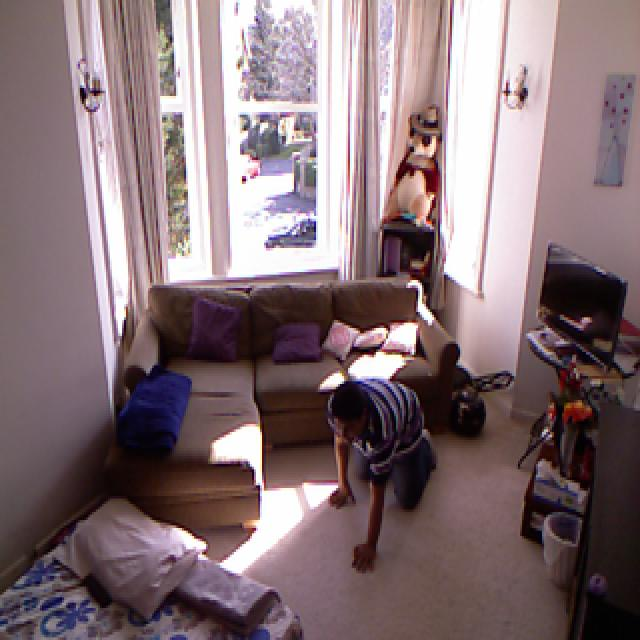crawling: (274, 390, 451, 594)
